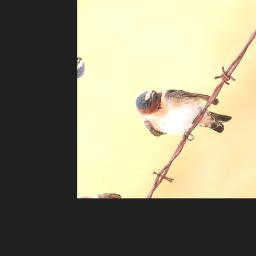Swallow: (121, 70, 239, 159)
